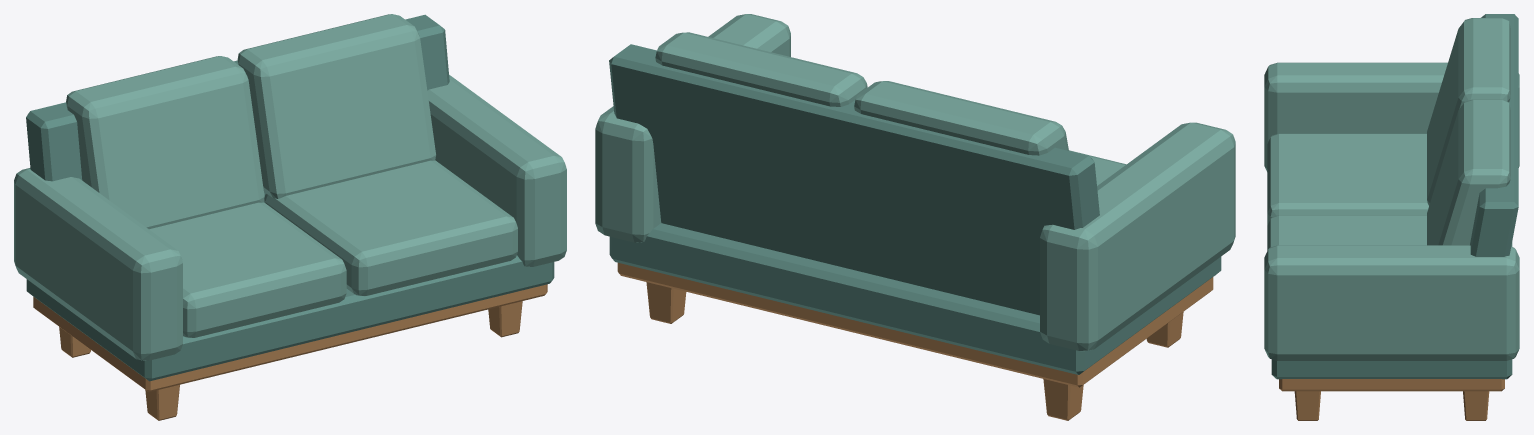
3 renders of one model, left to right at view 1: azimuth 30°, elevation 25°; view 2: azimuth 150°, elevation 25°; view 3: azimuth 270°, elevation 25°, orthographic. The views are drawn at different scales.
Visible parts, largest first — view 1: Back_cushion_R, Back_cushion_L, Low_armrest_L, Seat_cushion_R, Seat_cushion_L, Upholstered_seat_deck, Low_armrest_R, Maple_base_rail, Rear_support_shell, Foot_LF, Foot_RF, Foot_LB; view 2: Rear_support_shell, Low_armrest_L, Upholstered_seat_deck, Low_armrest_R, Back_cushion_L, Maple_base_rail, Back_cushion_R, Foot_LB, Foot_RB, Foot_LF; view 3: Low_armrest_R, Seat_cushion_L, Low_armrest_L, Back_cushion_R, Back_cushion_L, Seat_cushion_R, Rear_support_shell, Upholstered_seat_deck, Maple_base_rail, Foot_RB, Foot_RF.
Part boxes in pixels (x1,y1,x2,y2): Back_cushion_R: (237,14,435,198); Back_cushion_L: (66,56,264,229); Low_armrest_L: (14,168,182,360); Seat_cushion_R: (264,160,517,296); Seat_cushion_L: (149,202,346,337); Upholstered_seat_deck: (26,255,554,381); Low_armrest_R: (427,74,566,266); Maple_base_rail: (33,284,547,391); Rear_support_shell: (26,14,449,195); Foot_LF: (145,384,179,420); Foot_RF: (488,301,522,337); Foot_LB: (59,327,90,357); Rear_support_shell: (609,44,1099,315); Low_armrest_L: (1040,122,1235,351); Upholstered_seat_deck: (609,223,1221,374); Low_armrest_R: (595,14,790,242); Back_cushion_L: (854,81,1068,155); Maple_base_rail: (617,262,1213,387); Back_cushion_R: (655,32,867,106); Foot_LB: (1043,379,1083,420); Foot_RB: (646,282,686,323); Foot_LF: (1146,312,1183,347); Low_armrest_R: (1264,245,1519,360); Seat_cushion_L: (1267,133,1428,225); Low_armrest_L: (1264,62,1519,171); Back_cushion_R: (1427,99,1510,245); Back_cushion_L: (1427,18,1510,205); Seat_cushion_R: (1267,215,1426,250); Rear_support_shell: (1470,14,1518,256); Upholstered_seat_deck: (1271,242,1512,379); Maple_base_rail: (1279,379,1504,391); Foot_RB: (1463,391,1489,420); Foot_RF: (1294,391,1320,420).
Bounding box in the file's own units: 1.68 × 0.92 × 0.88.
